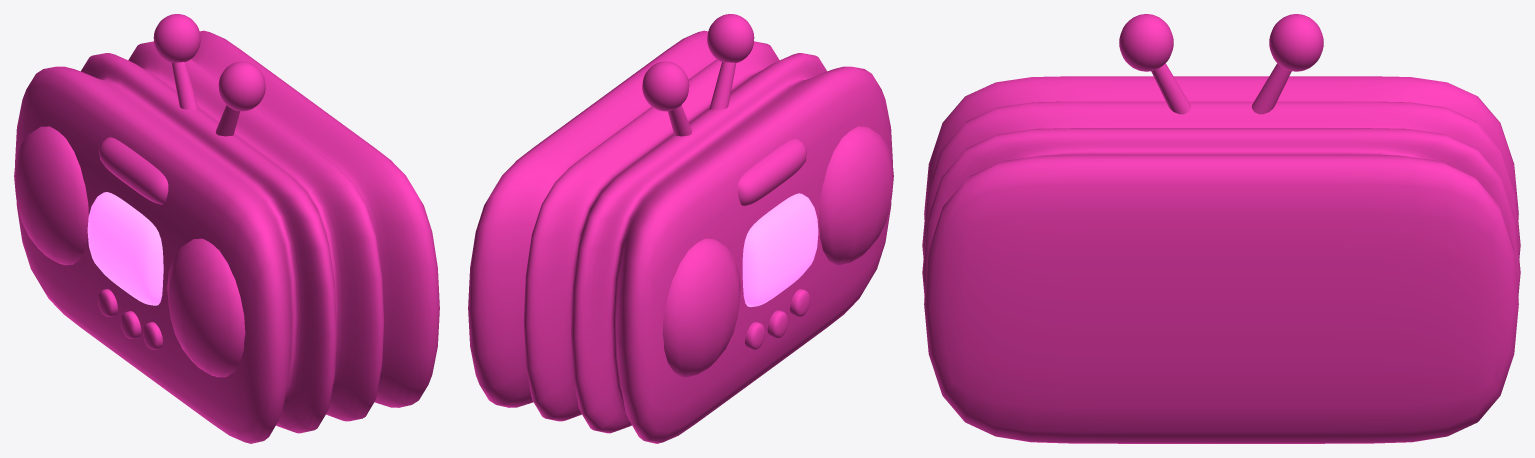
The model's file is boombox.fbx.
3 renders of one model, left to right at view 1: azimuth 30°, elevation 25°; view 2: azimuth 150°, elevation 25°; view 3: azimuth 270°, elevation 25°, orthographic. The views are drawn at different scales.
Visible parts, largest first — view 1: Cube.100, Sphere.009, Cube.101, Sphere.008, Cube.102, Cylinder.043, Cylinder.045, Cylinder.044; view 2: Cube.100, Sphere.009, Cube.101, Sphere.008, Cube.102, Cylinder.043, Cylinder.045, Cylinder.044; view 3: Cube.100, Sphere.008, Cylinder.043.
Boxes of the visible parts, <box> form: Cube.100: <box>15,30,439,443</box>; Sphere.009: <box>14,126,245,377</box>; Cube.101: <box>87,192,163,305</box>; Sphere.008: <box>153,14,265,111</box>; Cube.102: <box>99,137,168,204</box>; Cylinder.043: <box>171,62,239,136</box>; Cylinder.045: <box>98,289,162,349</box>; Cylinder.044: <box>121,311,141,338</box>; Cube.100: <box>468,30,892,443</box>; Sphere.009: <box>662,126,893,377</box>; Cube.101: <box>742,193,818,306</box>; Sphere.008: <box>642,14,754,111</box>; Cube.102: <box>737,138,806,206</box>; Cylinder.043: <box>668,62,736,136</box>; Cylinder.045: <box>745,289,809,349</box>; Cylinder.044: <box>767,310,787,338</box>; Cube.100: <box>922,76,1520,443</box>; Sphere.008: <box>1119,14,1323,71</box>; Cylinder.043: <box>1151,63,1291,114</box>.
Size of the model in its own units: 102 by 146 by 210.
